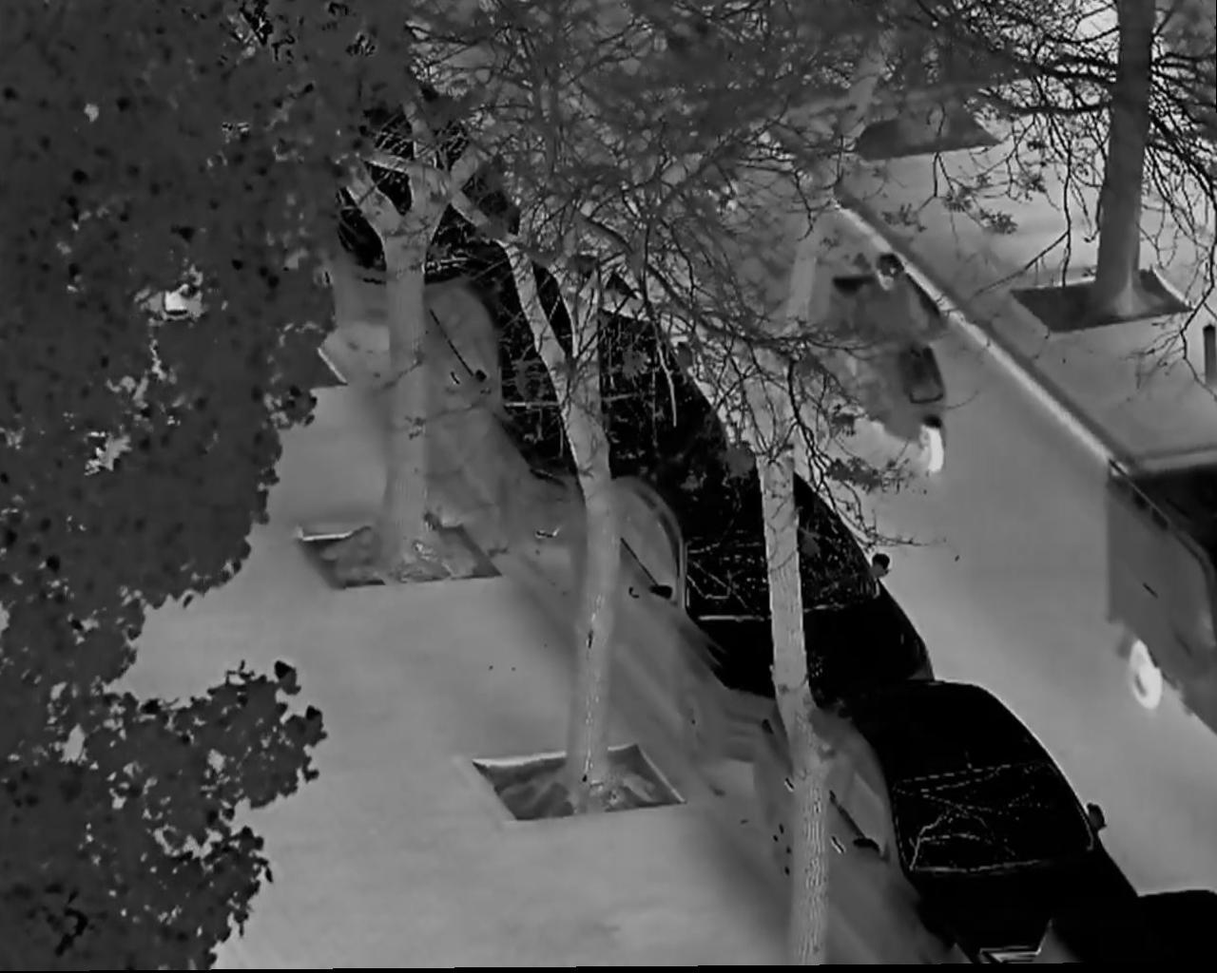person: (860, 255, 933, 409)
